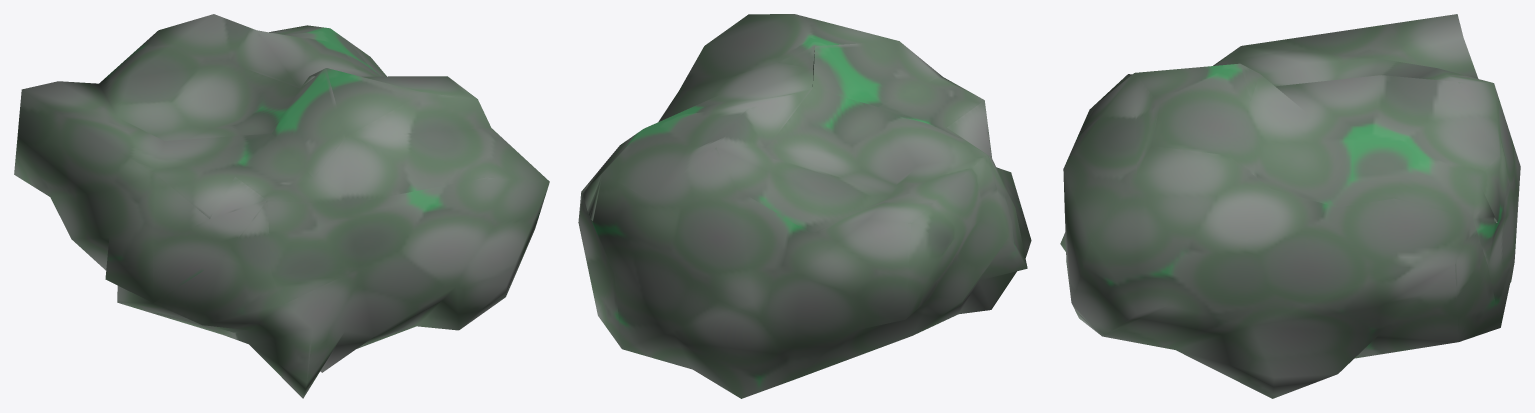
The model's file is my_mesh_rock SubTool8.glb.
3 views of the same model, side by side, from view 1: azimuth 30°, elevation 25°; view 2: azimuth 150°, elevation 25°; view 3: azimuth 270°, elevation 25° (orthographic). The views are drawn at different scales.
Parts seen in each view (by area): view 1: rock SubTool8; view 2: rock SubTool8; view 3: rock SubTool8.
Boxes of the visible parts, box(x1,y1,x2,y2) form: rock SubTool8: box(14, 14, 549, 398); rock SubTool8: box(578, 14, 1031, 398); rock SubTool8: box(1060, 14, 1520, 398).
Bounding box in the file's own units: 7.17 × 4.73 × 7.3.
1 material, 1 textured.
